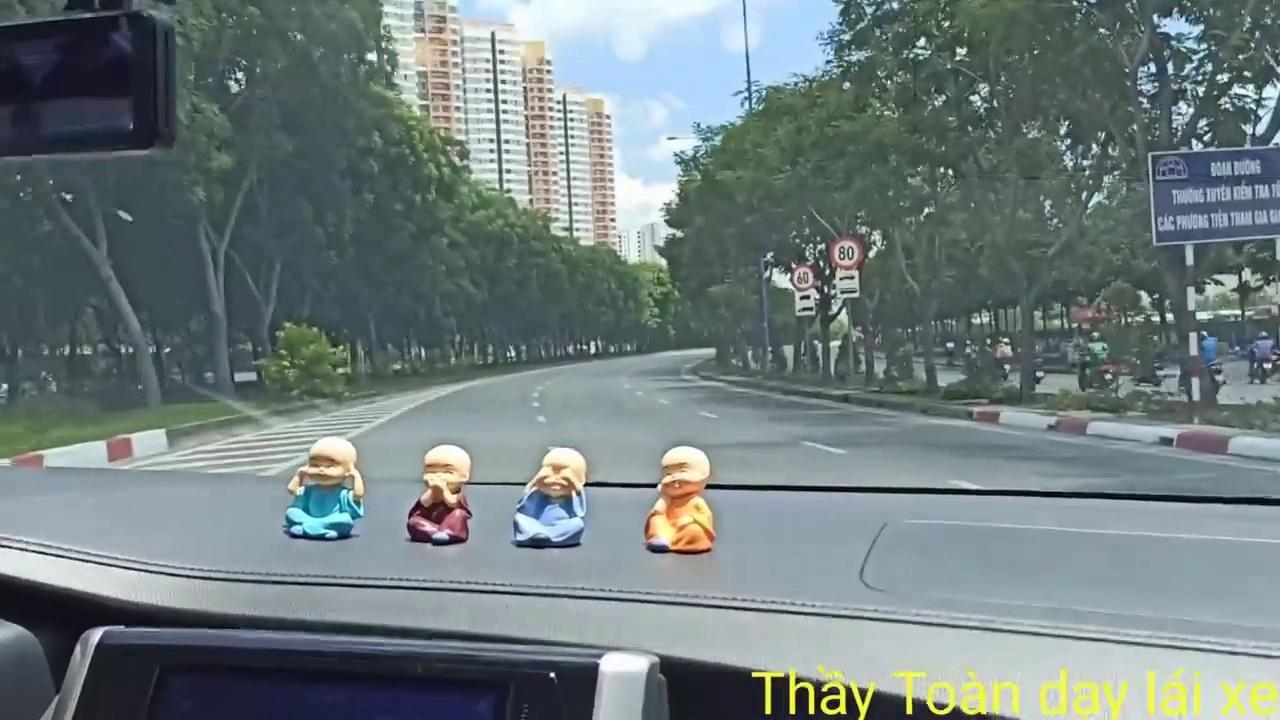Biển phụ: (834, 270, 861, 298), (793, 290, 818, 316)
GIơi hạn tốc độ 60Km/h: (791, 262, 815, 290)
Giới hạn tốc độ 80Km/h: (830, 233, 864, 270)
